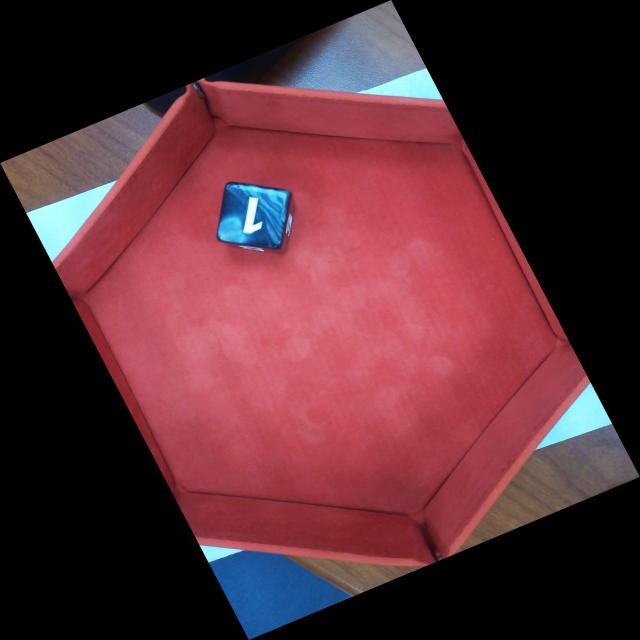dice: (214, 180, 292, 252)
